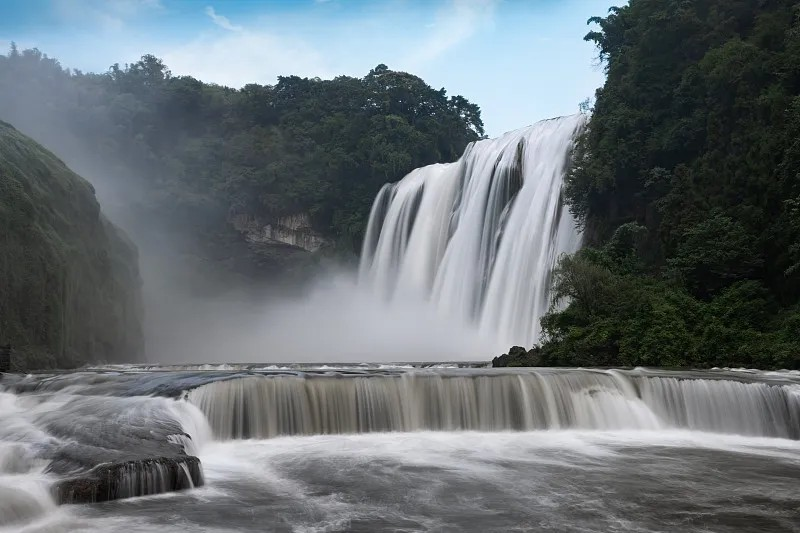Huangguoshu: (356, 112, 587, 362)
